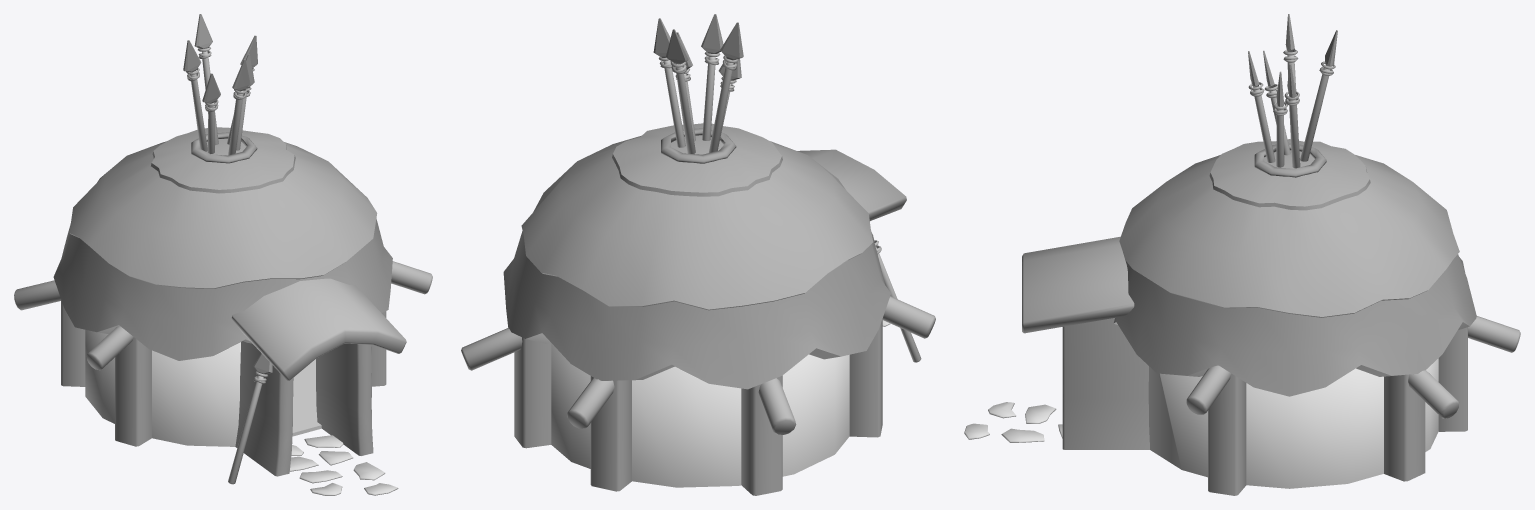
Rendered from WarriorBarrack_lvl2.fbx.
3 renders of one model, left to right at view 1: azimuth 30°, elevation 25°; view 2: azimuth 150°, elevation 25°; view 3: azimuth 270°, elevation 25°, orthographic. The views are drawn at different scales.
Visible parts, largest first — view 1: Lvl2_WarriorBarrack; view 2: Lvl2_WarriorBarrack; view 3: Lvl2_WarriorBarrack.
Boxes of the visible parts, x1,y1,x2,y2 form: Lvl2_WarriorBarrack: [14, 14, 432, 495]; Lvl2_WarriorBarrack: [461, 14, 935, 495]; Lvl2_WarriorBarrack: [964, 14, 1520, 495].
Bounding box in the file's own units: 3.31 × 3.35 × 4.29.
